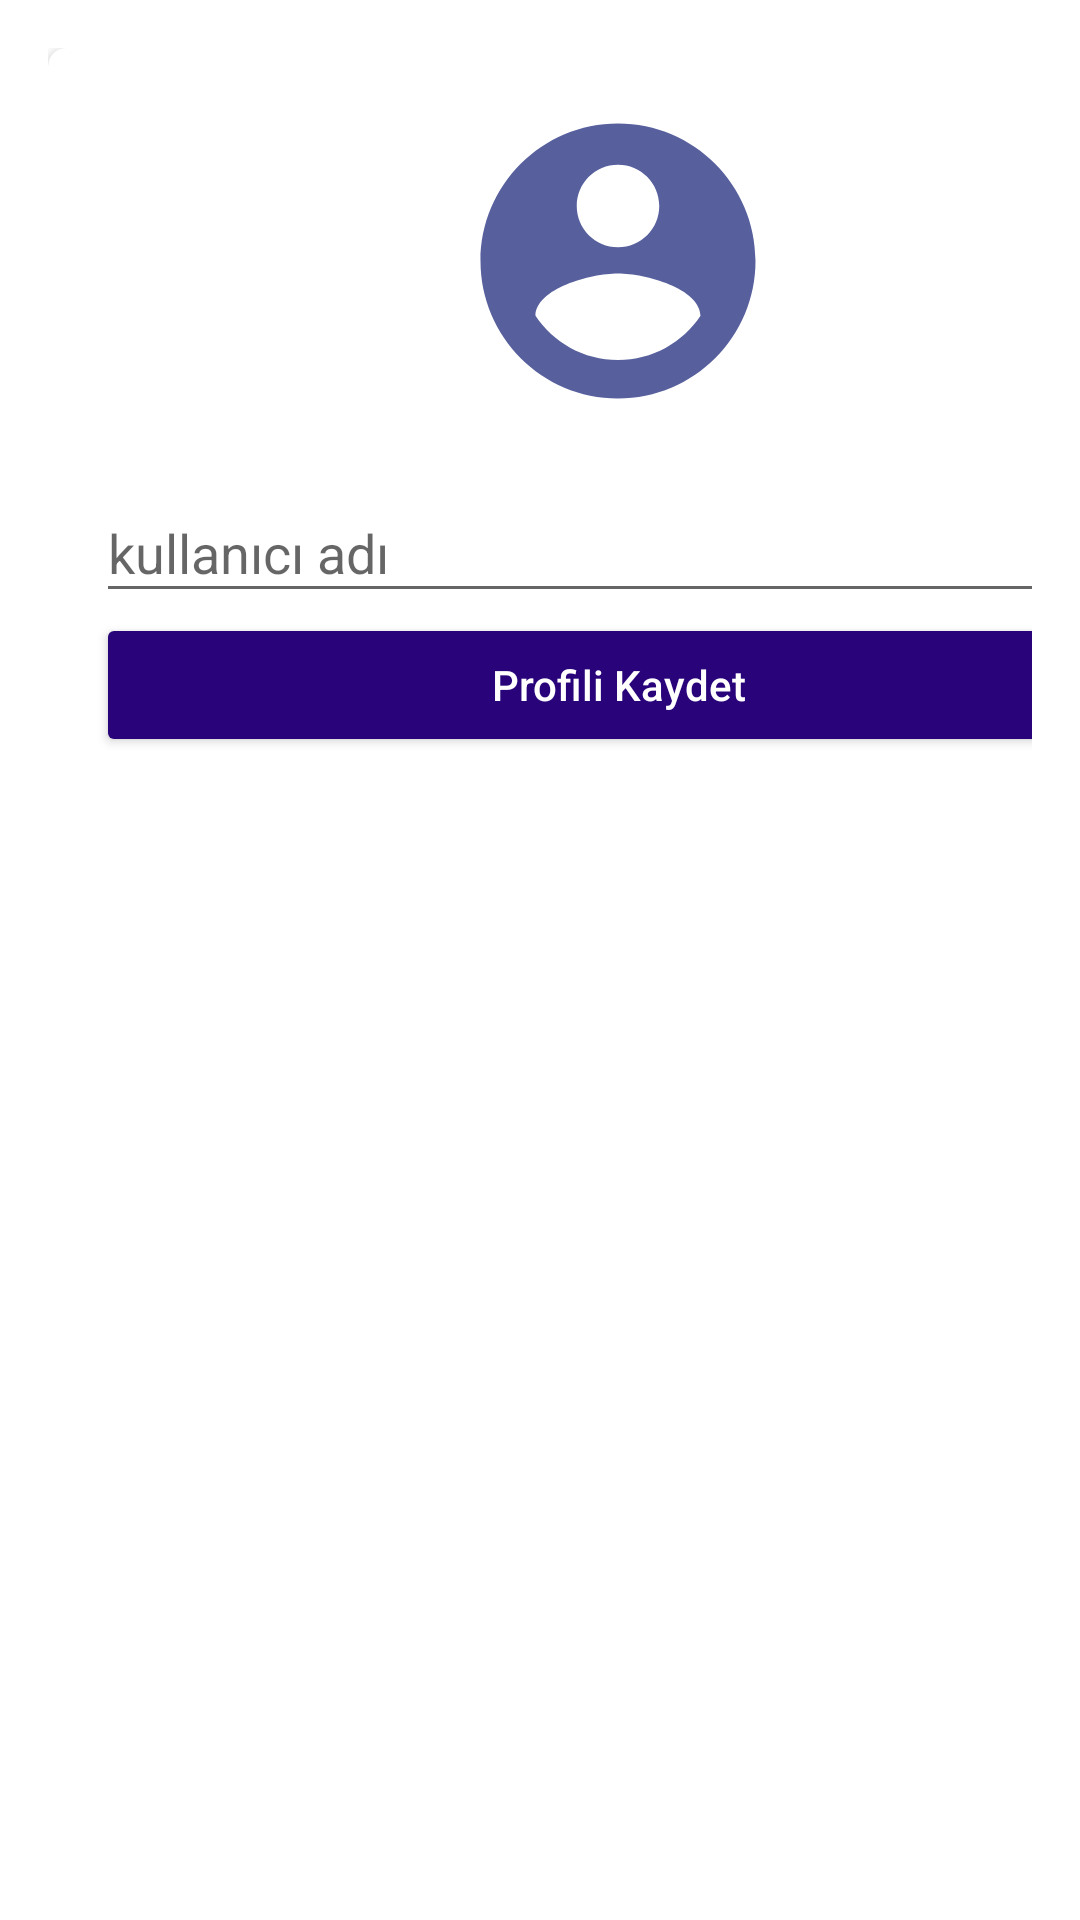

Where to tap for icons on this 1080w x 1920h app screen, as (x=x, y=y):
profile: (x=618, y=261)
